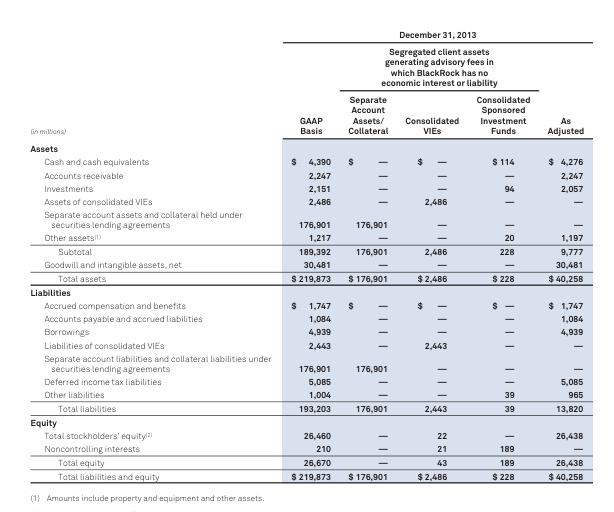table: (29, 28, 583, 481)
table column: (29, 28, 280, 481), (466, 28, 538, 481), (395, 28, 466, 481), (280, 28, 338, 481), (338, 28, 395, 481), (538, 28, 583, 481)
table column header: (29, 28, 583, 139)
table projected row header: (29, 139, 583, 154), (29, 284, 583, 298), (29, 414, 583, 428)
table row: (29, 90, 583, 139), (29, 42, 583, 90), (29, 207, 583, 230), (29, 351, 583, 374), (29, 139, 583, 154), (29, 28, 583, 42), (29, 167, 583, 181), (29, 230, 583, 244), (29, 257, 583, 271), (29, 284, 583, 298), (29, 337, 583, 351), (29, 387, 583, 401), (29, 414, 583, 428), (29, 441, 583, 455), (29, 154, 583, 167), (29, 181, 583, 194), (29, 194, 583, 207), (29, 244, 583, 257), (29, 271, 583, 284), (29, 298, 583, 311), (29, 311, 583, 324), (29, 324, 583, 337), (29, 374, 583, 387), (29, 401, 583, 414), (29, 428, 583, 441), (29, 455, 583, 468), (29, 468, 583, 481)
table spanning cell: (29, 28, 280, 139), (338, 42, 538, 90), (280, 42, 338, 139), (538, 42, 583, 139), (280, 28, 583, 42)
